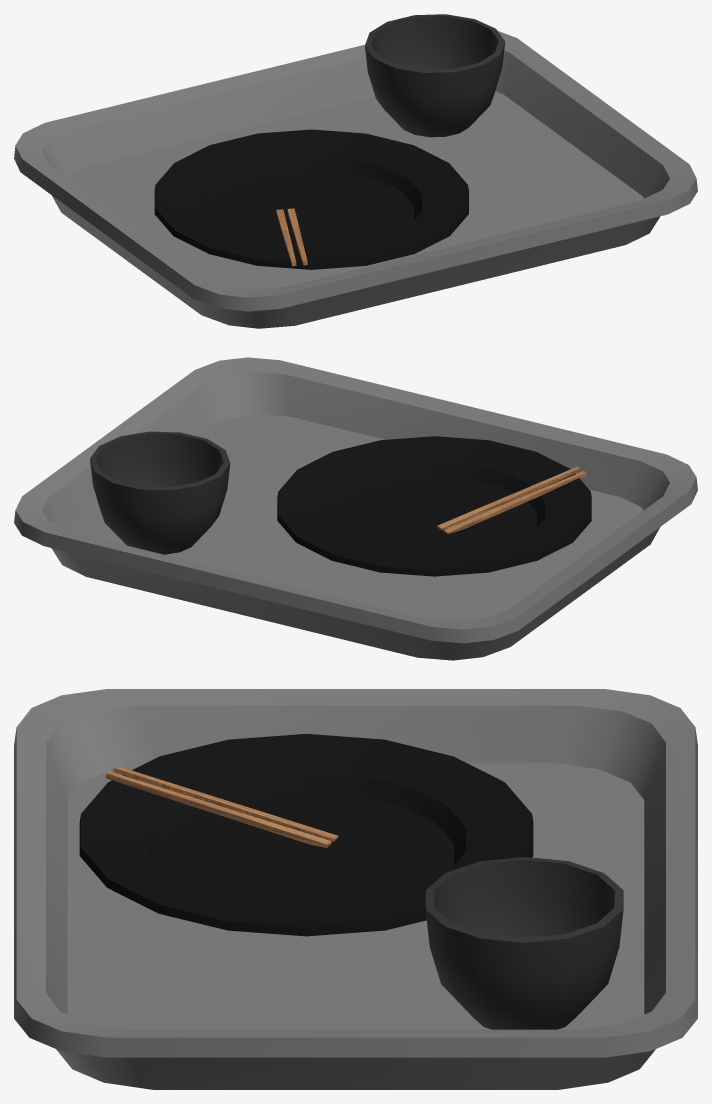
File: SM_tray_food_01.fbx
3 renders of one model, top to bottom at view 1: azimuth 30°, elevation 25°; view 2: azimuth 150°, elevation 25°; view 3: azimuth 270°, elevation 25°, orthographic. The views are drawn at different scales.
Visible parts, largest first — view 1: tray02; view 2: tray02; view 3: tray02.
Part boxes in pixels (x1=…): tray02: x1=14, y1=14, x2=697, y2=328; tray02: x1=14, y1=357, x2=697, y2=660; tray02: x1=14, y1=689, x2=697, y2=1089.
Size of the model in its own units: 19.64 by 3.39 by 16.19.
4 materials, 1 textured.
